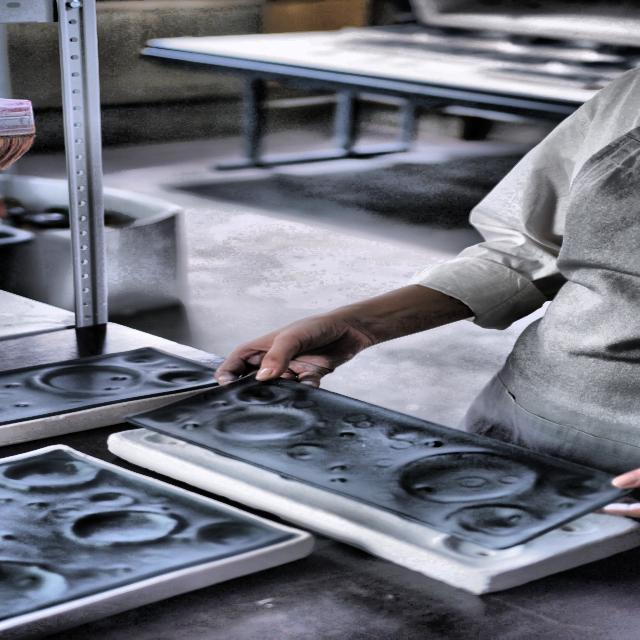not-gloved: (198, 316, 408, 394), (512, 433, 640, 560)
